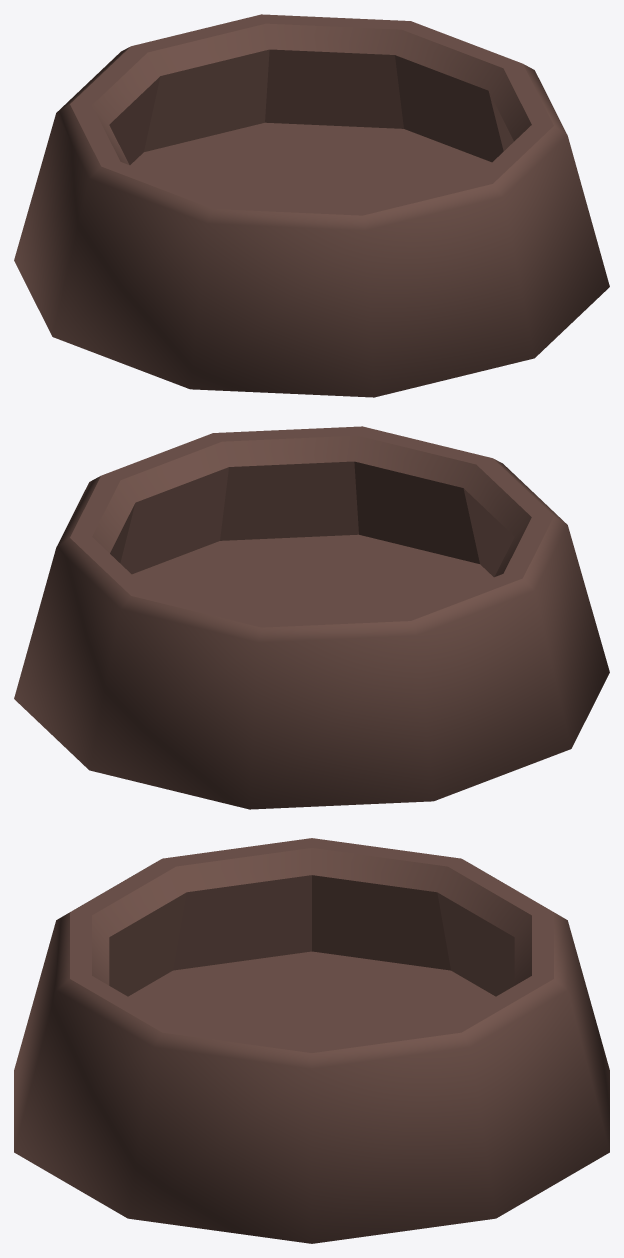
The model's file is dog_bowl.fbx.
The picture shows the model from 3 angles, top to bottom: view 1: azimuth 30°, elevation 25°; view 2: azimuth 150°, elevation 25°; view 3: azimuth 270°, elevation 25°; orthographic projection. The views are drawn at different scales.
Parts seen in each view (by area): view 1: polySurface46; view 2: polySurface46; view 3: polySurface46.
Part boxes in pixels (x1=…): polySurface46: x1=14, y1=14, x2=609, y2=397; polySurface46: x1=14, y1=426, x2=609, y2=809; polySurface46: x1=14, y1=838, x2=609, y2=1243.
Size of the model in its own units: 0.7857 by 0.2295 by 0.7473.
